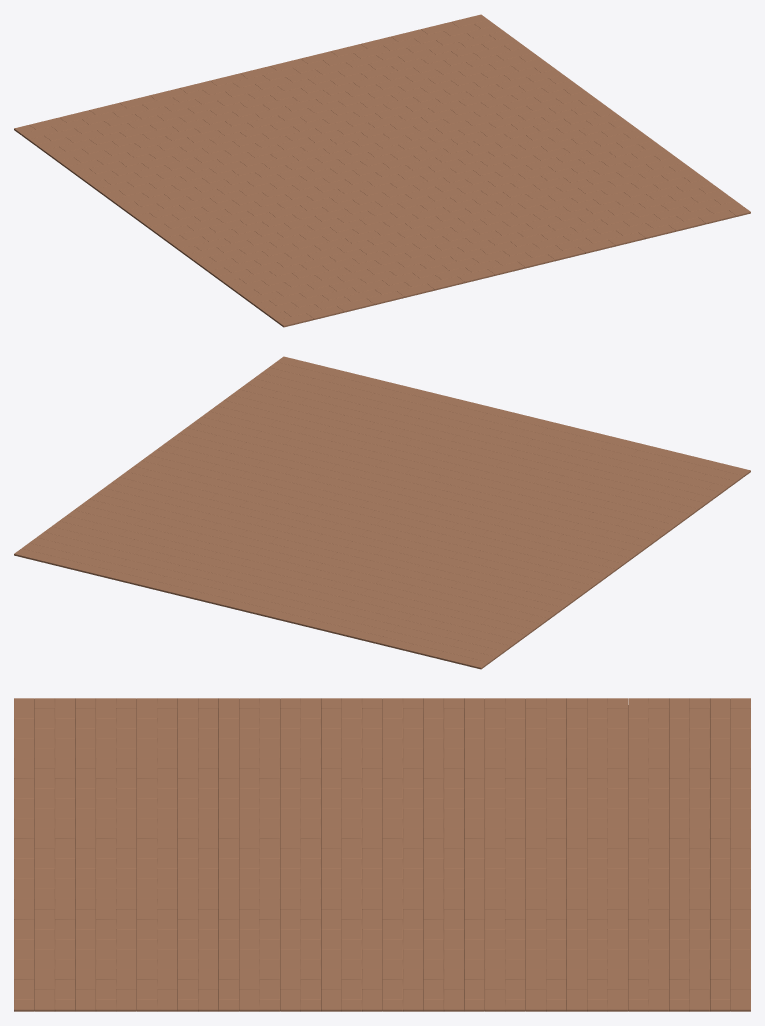
Rendered from floor.glb.
3 views of the same model, one above another, from view 1: azimuth 30°, elevation 25°; view 2: azimuth 150°, elevation 25°; view 3: azimuth 270°, elevation 25° (orthographic). The views are drawn at different scales.
Parts seen in each view (by area): view 1: floor_big; view 2: floor_big; view 3: floor_big.
Boxes of the visible parts, x1,y1,x2,y2 form: floor_big: [14, 14, 750, 327]; floor_big: [14, 356, 750, 669]; floor_big: [14, 698, 750, 1011].
Size of the model in its own units: 7.36 by 0.0271 by 7.36.
